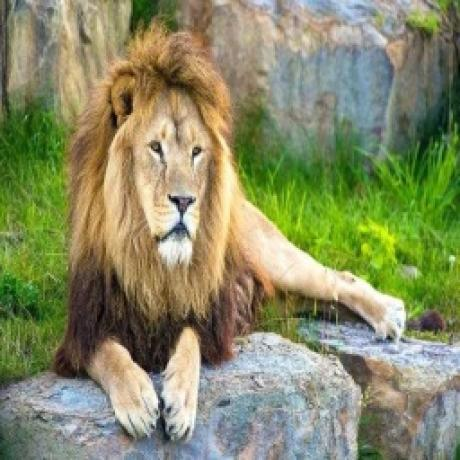Lion: (58, 15, 414, 444)
